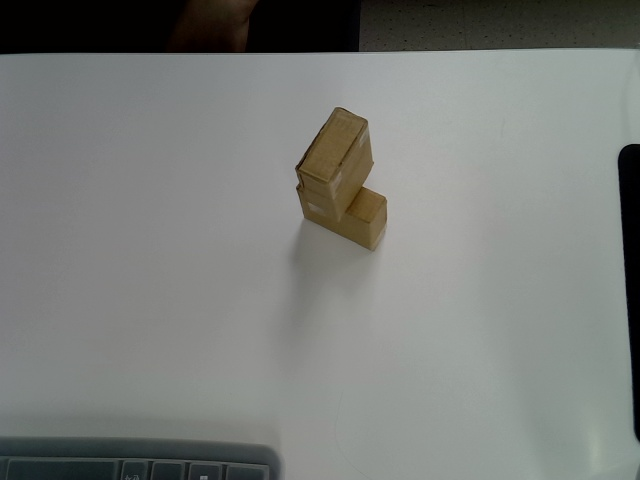normal: (297, 107, 376, 222), (296, 182, 388, 252)
